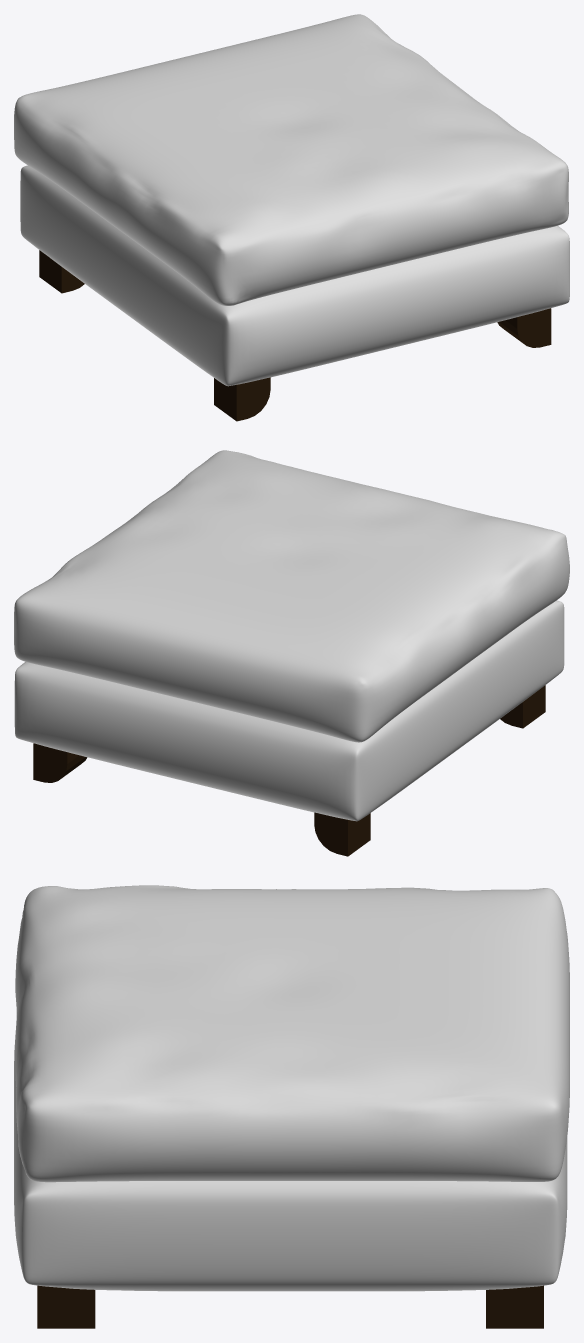
The model's file is reposa-pies.fbx.
The picture shows the model from 3 angles, top to bottom: view 1: azimuth 30°, elevation 25°; view 2: azimuth 150°, elevation 25°; view 3: azimuth 270°, elevation 25°; orthographic projection. The views are drawn at different scales.
Visible parts, largest first — view 1: Sillon.004; view 2: Sillon.004; view 3: Sillon.004.
Part boxes in pixels (left/top/right/bottom): Sillon.004: left=14, top=14, right=569, bottom=421; Sillon.004: left=14, top=450, right=569, bottom=856; Sillon.004: left=14, top=885, right=569, bottom=1328.
Size of the model in its own units: 68 by 34.56 by 69.65.
